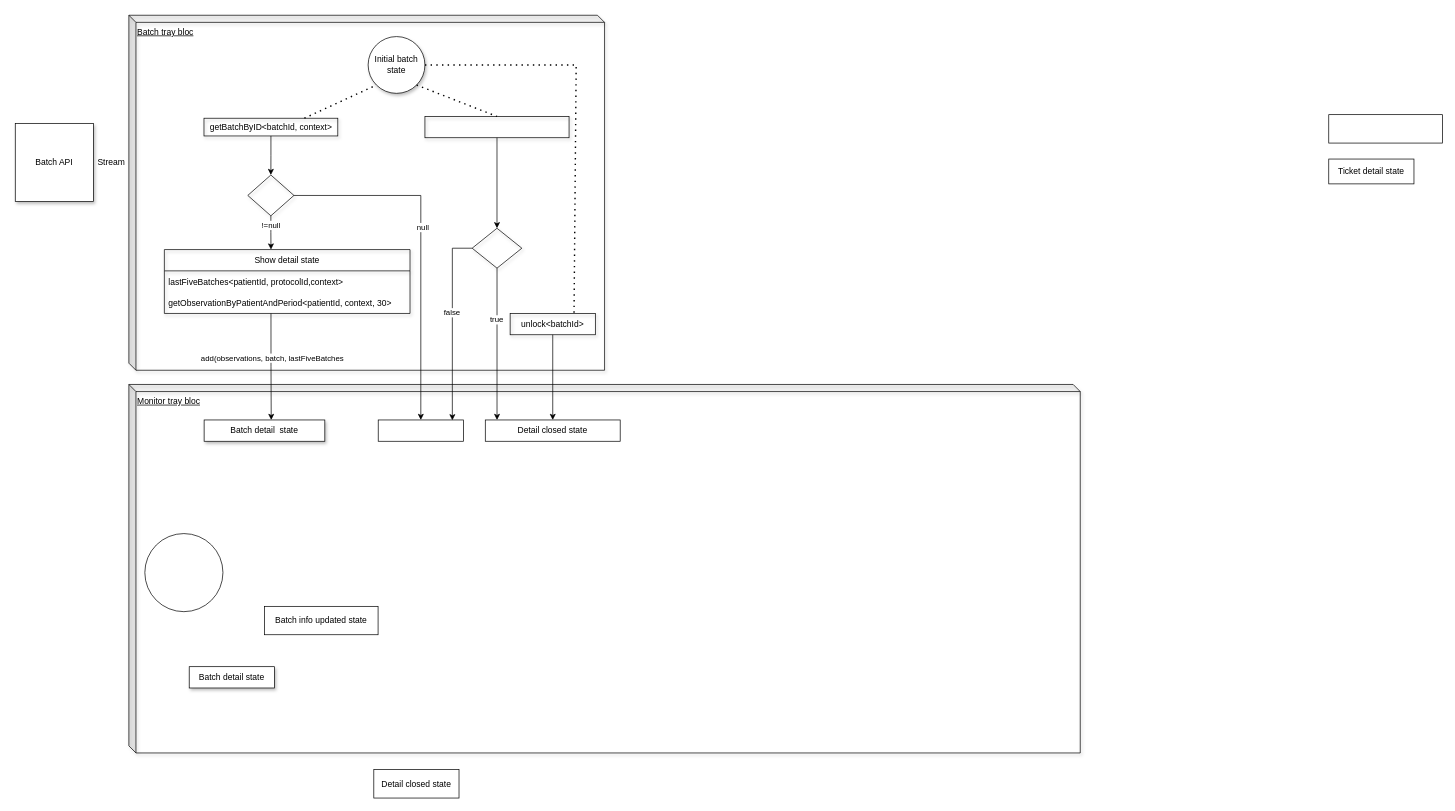
The diagram is 1455 pixels wide and 811 high, and some of its shapes have lost their labels. The shapes that lost their labels are listed below. From the top down, each one's centre as x and y in pixels, then its label:
At (x=497, y=128): "validateBatch<batchId, annotation>".
At (x=1385, y=128): "Ticket info updated state".
At (x=271, y=196): "Batch".
At (x=497, y=249): "Result".
At (x=420, y=430): "Error state".
At (x=183, y=572): "Initial monitoring state".
